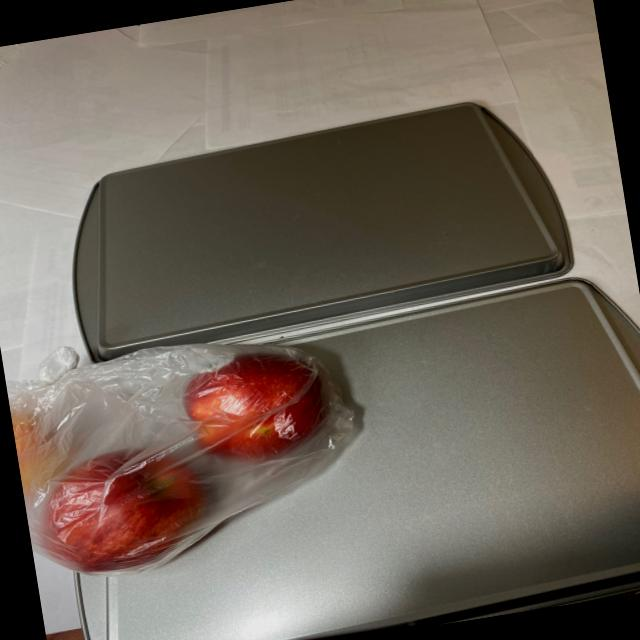apple: (7, 338, 353, 591)
